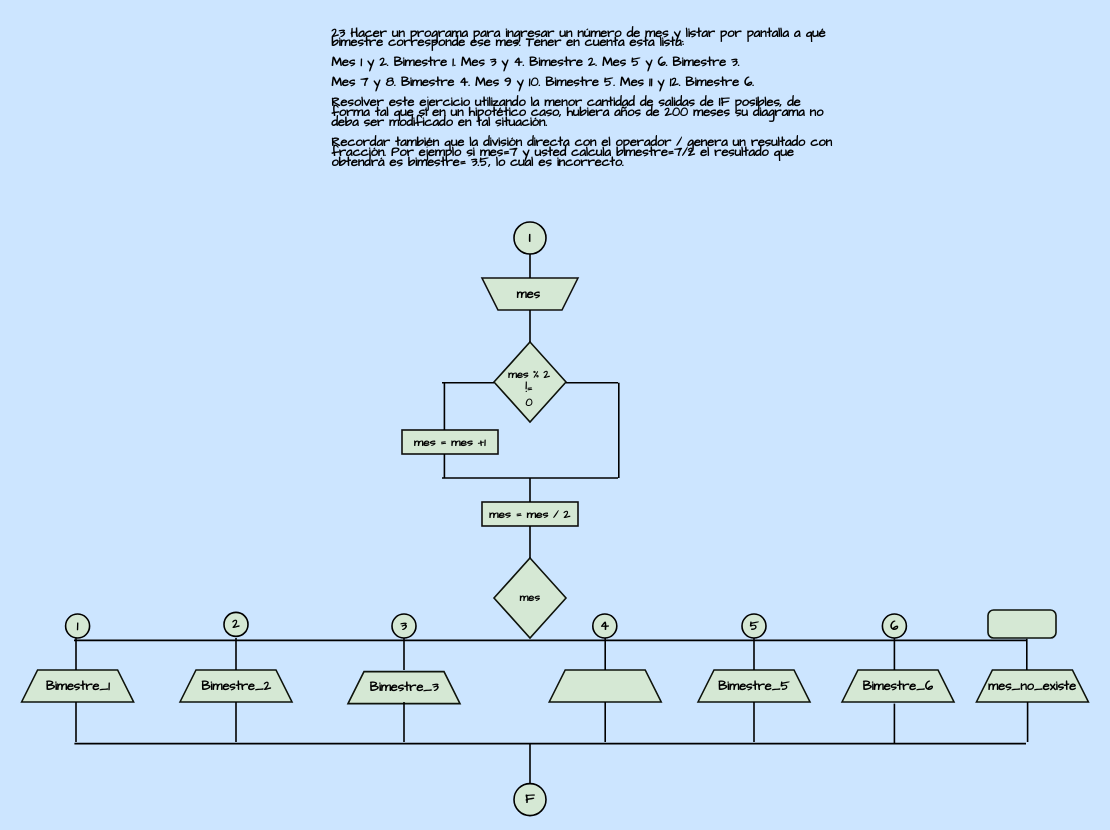
This 1110x830 diagram has some shape labels left out. Each missing label, with the centre of its shape:
"Bimestre_4" belongs at pixel 605 685.
"default" belongs at pixel 1021 623.
